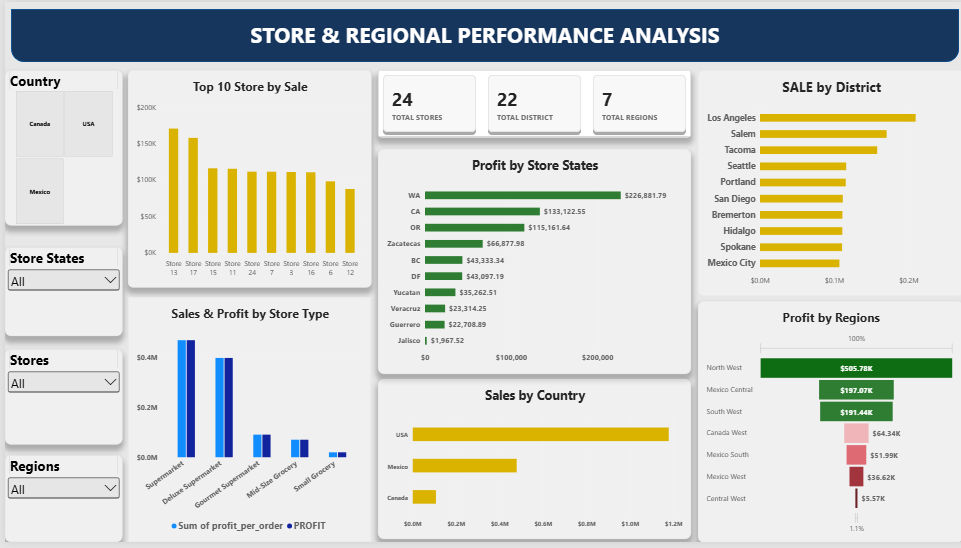

The dashboard page shown, as its layout file describes it:
{"tool":"powerbi","page":{"name":"Store & Regional Performance Dashboard","canvas":[1920,1080],"ordinal":3},"visuals":[{"type":"barChart","title":"SALE by District","fields":{"Category":["Regions.sales_district"],"Y":["Transactions.TOTAL SALE"]},"box":[1387,137,532.6,452.2],"z":0},{"type":"cardVisual","fields":{"Data":["Stores.TOTAL STORES","Regions.TOTAL DISTRICT","Regions.TOTAL REGIONS"]},"box":[745.7,137,626.1,134.8],"z":1000},{"type":"shape","box":[12.8,14.9,1896.4,106.3],"z":2000},{"type":"funnel","title":"Profit by Regions","fields":{"Category":["Regions.sales_region"],"Y":["Sum(Transactions.profit_per_order)"]},"box":[1387,597.8,530.4,482.6],"z":3000},{"type":"columnChart","title":"Top 10 Store by Sale","fields":{"Category":["Stores.store_name"],"Y":["Sum(Transactions.sp)"]},"box":[245.7,137,487,434.8],"z":4000},{"type":"slicer","fields":{"Values":["Stores.store_state"]},"box":[0,489.1,234.8,178.3],"z":5000},{"type":"barChart","title":"Profit by Store States","fields":{"Category":["Stores.store_state"],"Y":["Sum(Transactions.cp)"]},"box":[745.7,293.5,626.1,450],"z":6000},{"type":"slicer","fields":{"Values":["Stores.store_name"]},"box":[0,693.5,234.8,191.3],"z":7000},{"type":"clusteredColumnChart","title":"Sales & Profit by Store Type","fields":{"Category":["Stores.store_type"],"Y":["Sum(Transactions.profit_per_order)","Transactions.PROFIT"]},"box":[245.7,589.1,487,491.3],"z":8000},{"type":"slicer","fields":{"Values":["Stores.store_country"]},"box":[0,137,234.8,310.9],"z":9000},{"type":"slicer","fields":{"Values":["Regions.sales_region"]},"box":[0,906.5,234.8,173.9],"z":10000},{"type":"barChart","title":"Sales by Country","fields":{"Category":["Stores.store_country"],"Y":["Sum(Transactions.sp)"]},"box":[745.7,754.3,626.1,319.6],"z":11000}]}

Visuals, with their boxes in screenshot pixels (x1, y1, x2, y2), scaled from the page's 1920x1080 canvas onto the 961x548 screenshot:
"SALE by District" barChart: (694, 70, 960, 299)
cardVisual - Stores.TOTAL STORES x Regions.TOTAL DISTRICT: (373, 70, 687, 138)
shape: (6, 8, 956, 61)
"Profit by Regions" funnel: (694, 303, 960, 547)
"Top 10 Store by Sale" columnChart: (123, 70, 367, 290)
slicer - Stores.store_state: (0, 248, 118, 339)
"Profit by Store States" barChart: (373, 149, 687, 377)
slicer - Stores.store_name: (0, 352, 118, 449)
"Sales & Profit by Store Type" clusteredColumnChart: (123, 299, 367, 547)
slicer - Stores.store_country: (0, 70, 118, 227)
slicer - Regions.sales_region: (0, 460, 118, 547)
"Sales by Country" barChart: (373, 383, 687, 545)
